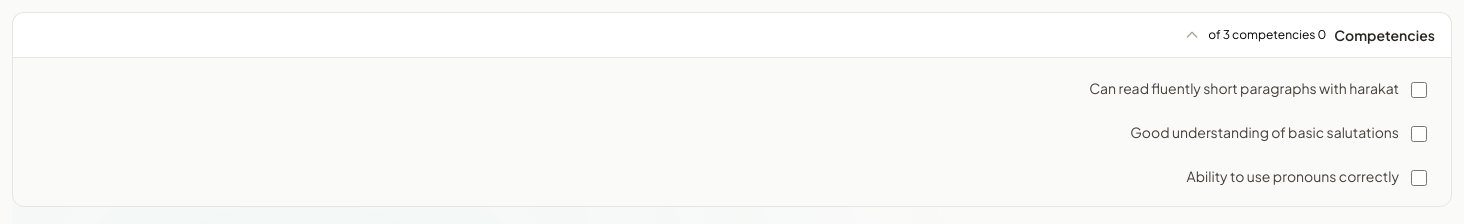
Scenario: LessonCompetencies | "X of N" counter › decrements counter when a checked checkbox is unchecked
Step 1. Click the checkbox labelled "Can read fluently short paragraphs with harakat" → (1419, 90), box [1411,82,1427,98]
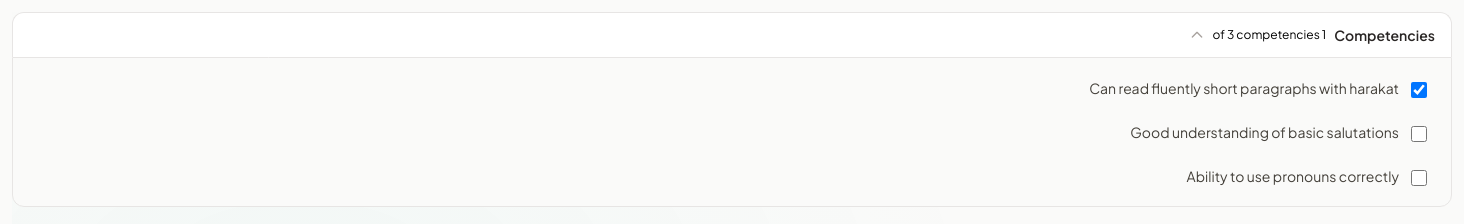
Step 2. Click the checkbox labelled "Can read fluently short paragraphs with harakat" → (1419, 90), box [1411,82,1427,98]
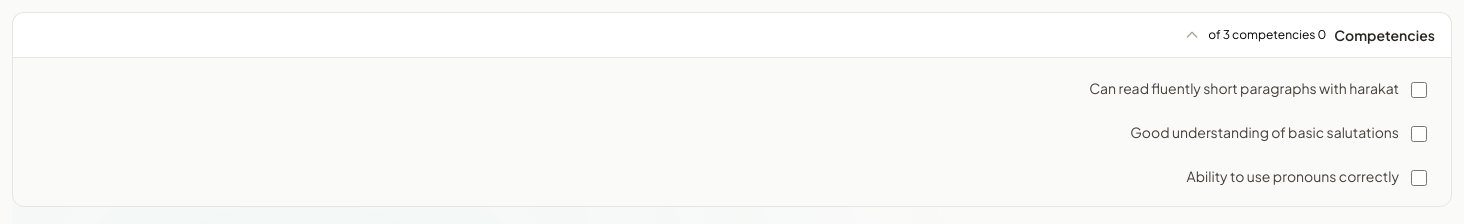
Check: the text with test id "competency-counter" shows "0 of 3", box [1208,27,1326,42]
